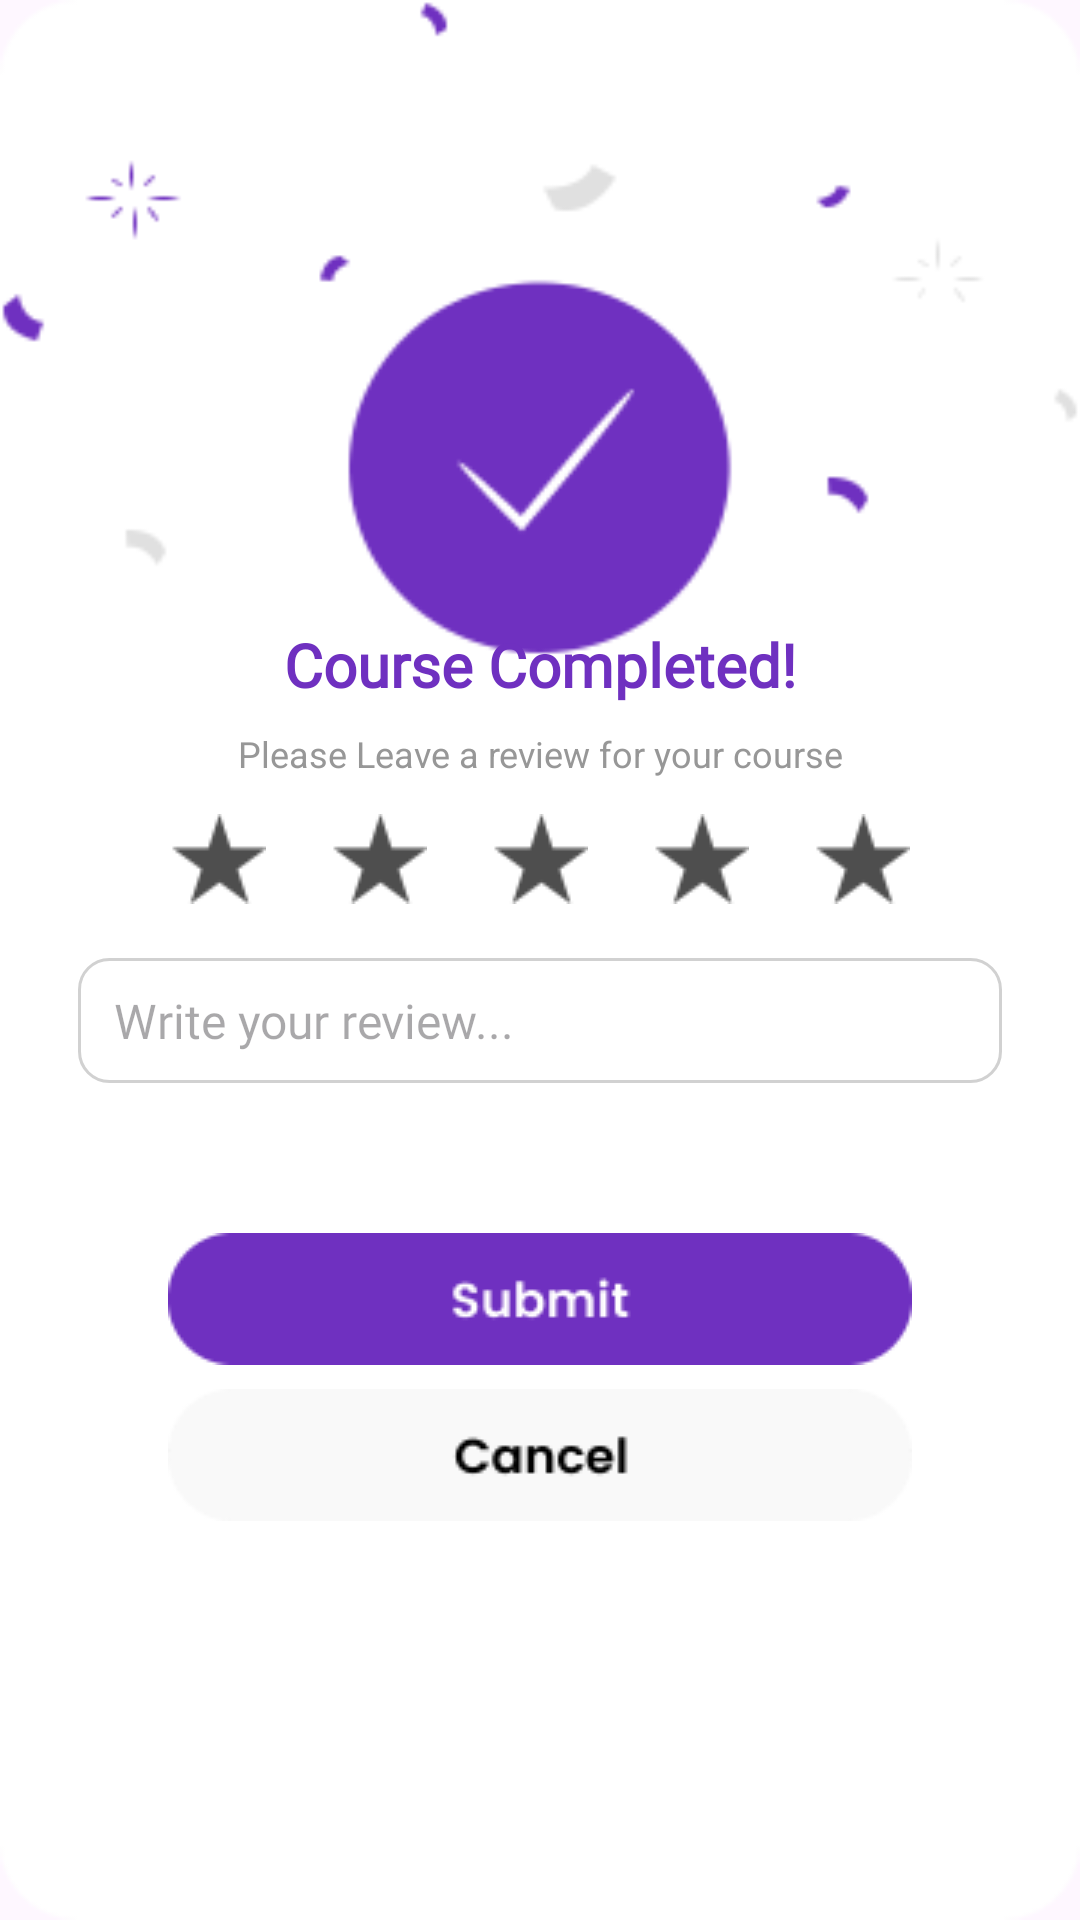

Screen size 1080 × 1920. Icon name, then its center in pixels as [x,y]:
star: [219,859], [380,859], [541,859], [702,859], [863,859]
